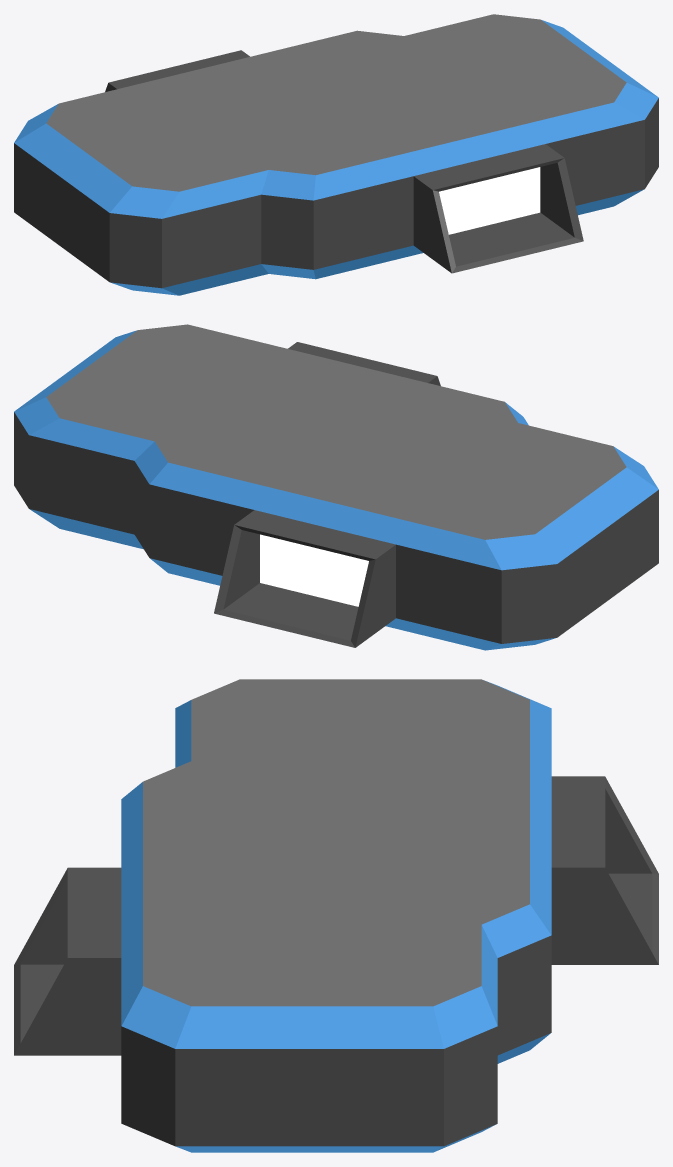
File: dock.glb
The picture shows the model from 3 angles, top to bottom: view 1: azimuth 30°, elevation 25°; view 2: azimuth 150°, elevation 25°; view 3: azimuth 270°, elevation 25°; orthographic projection. The views are drawn at different scales.
Visible parts, largest first — view 1: Docking Station; view 2: Docking Station; view 3: Docking Station.
Part boxes in pixels (<box>): Docking Station: <box>14,14,658,295</box>; Docking Station: <box>14,324,658,650</box>; Docking Station: <box>14,679,658,1152</box>.
Size of the model in its own units: 16 by 3 by 12.
